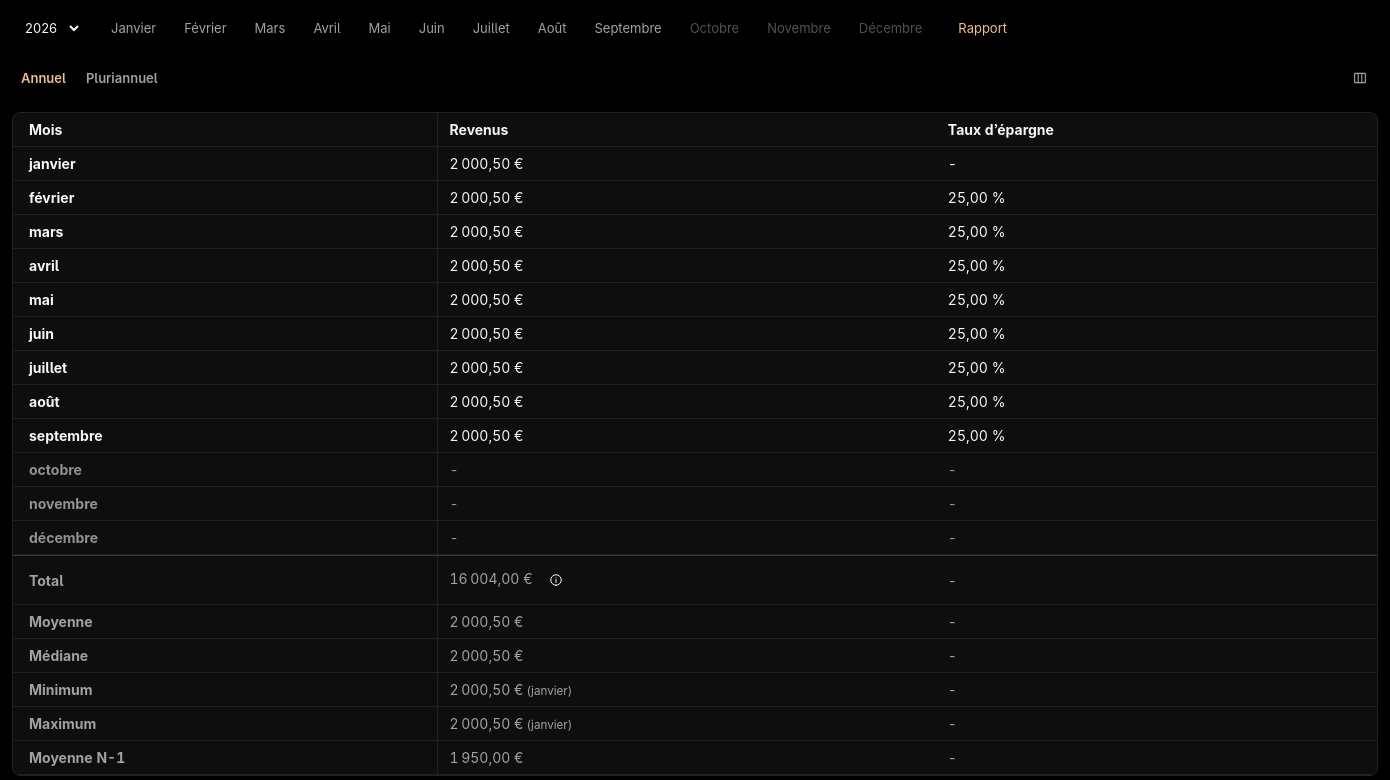
BudgetYearPage › writes the multi-year mode to the query string and clears it on the way back
Click the button "Pluriannuel" at (122, 78), box [77, 62, 167, 94]
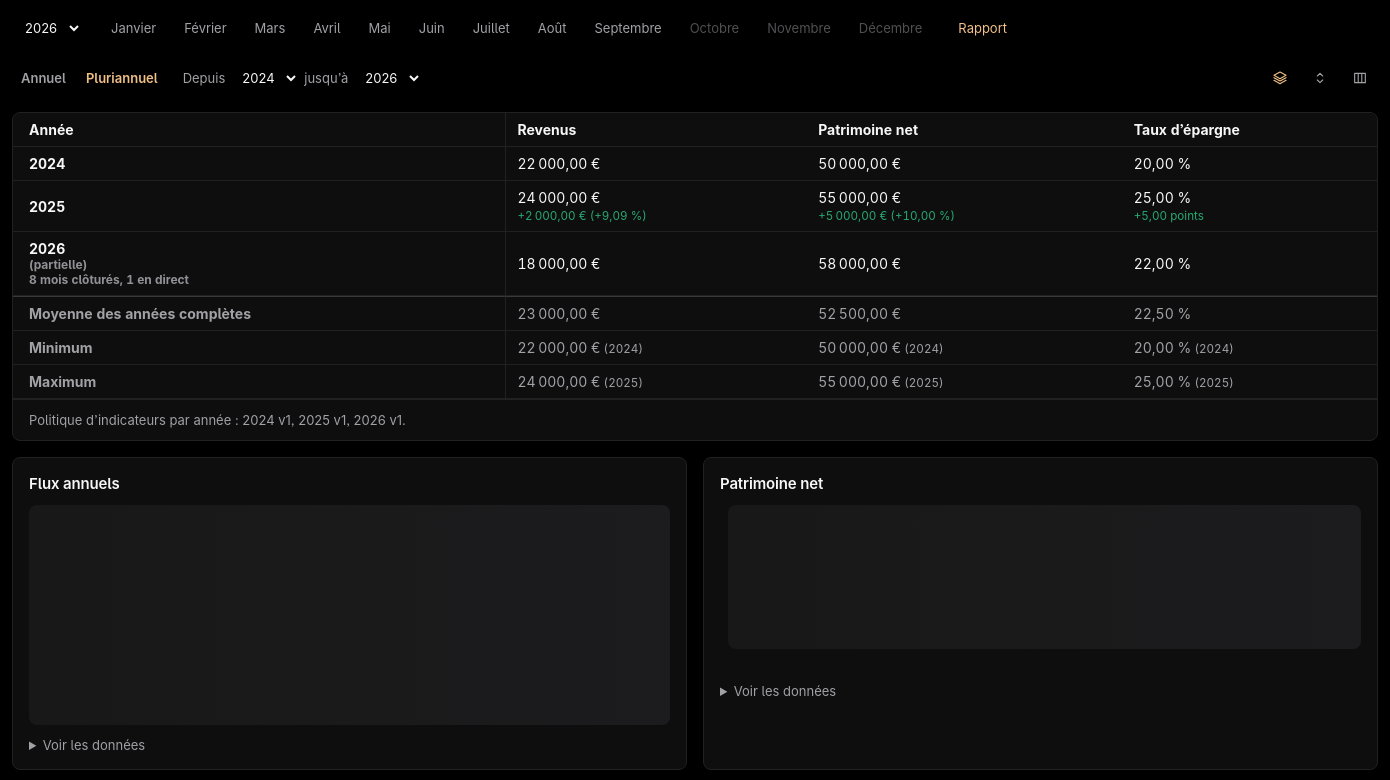
Check: the table named "pluriannuel" is shown, box [13, 113, 1377, 399]
Click the button "Annuel" at (43, 78), box [12, 62, 75, 94]
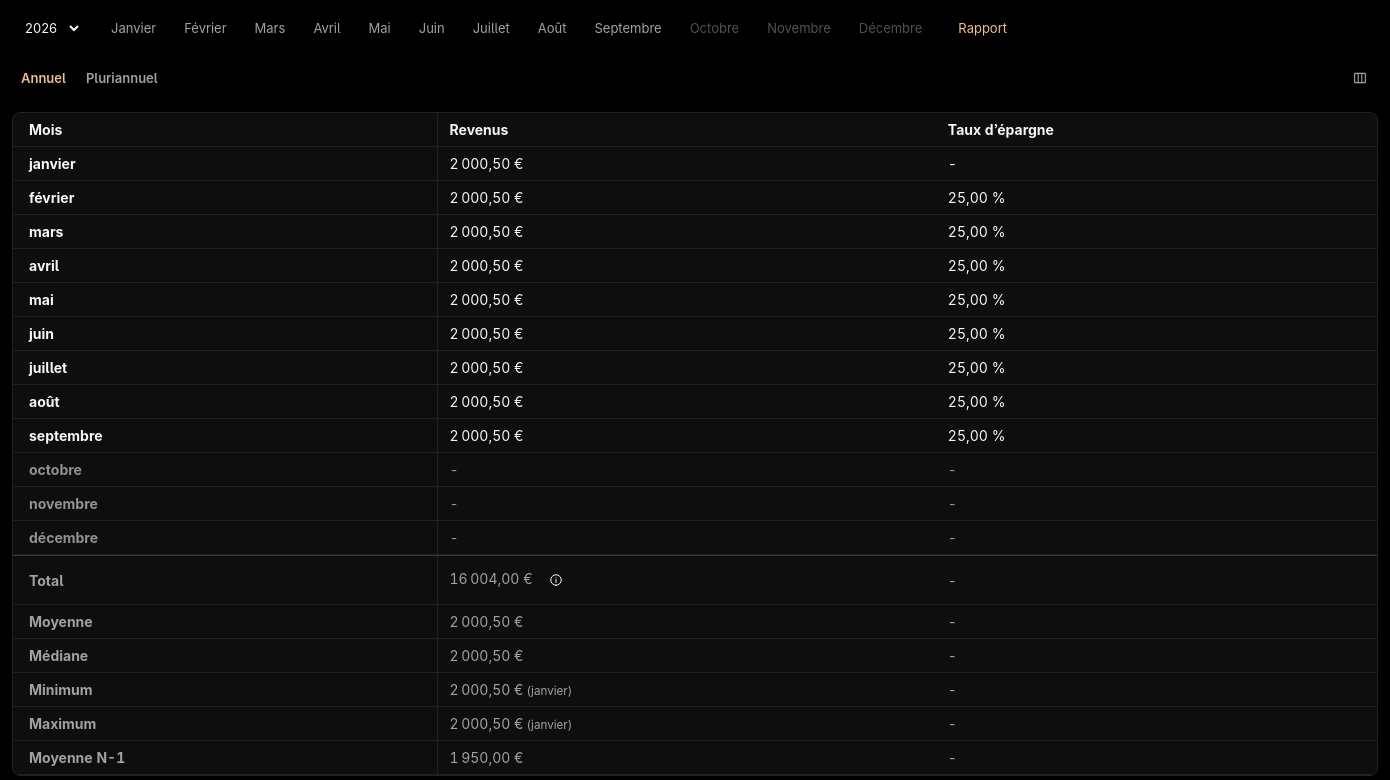
Check: the table named "rapport 2026" is shown
